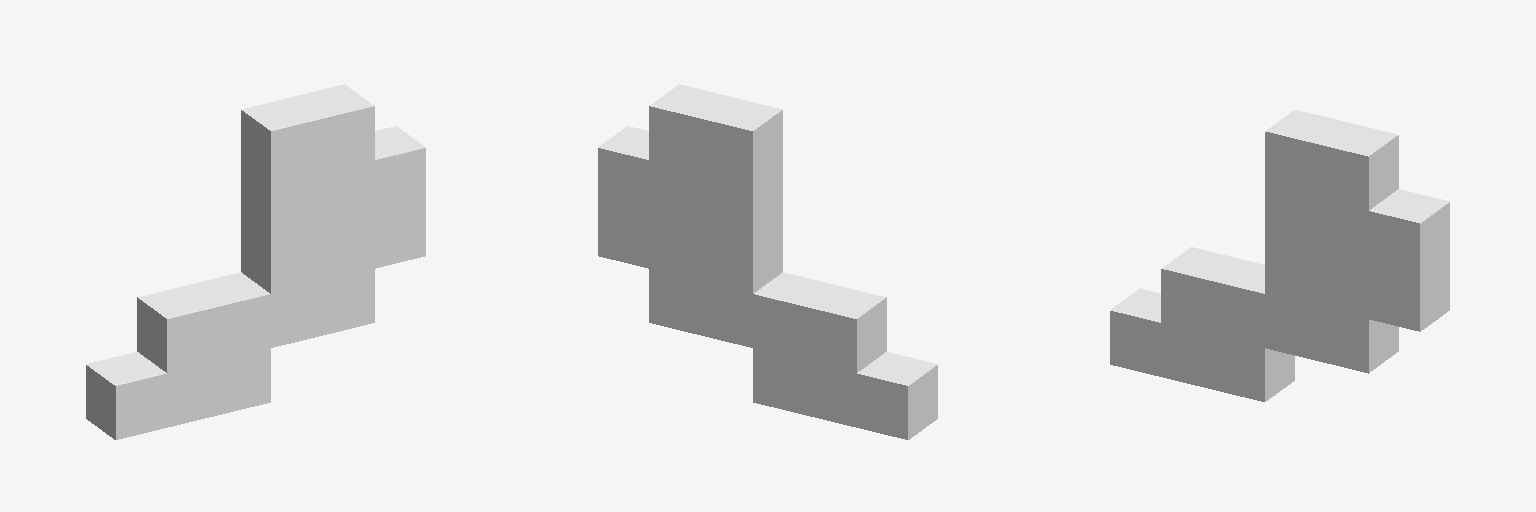
File: YellowHouseParts-27.obj
3 renders of one model, left to right at view 1: azimuth 30°, elevation 25°; view 2: azimuth 150°, elevation 25°; view 3: azimuth 330°, elevation 25°, orthographic.
Visible parts, largest first — view 1: object 1; view 2: object 1; view 3: object 1.
Boxes of the visible parts, x1,y1,x2,y2 form: object 1: [86, 84, 425, 439]; object 1: [598, 84, 937, 439]; object 1: [1110, 110, 1449, 401].
Size of the model in its own units: 0.6 by 0.5 by 0.1.